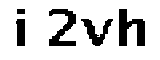2: (43, 4, 79, 50)
h: (113, 2, 149, 50)
i: (12, 6, 32, 52)
v: (80, 15, 111, 48)
